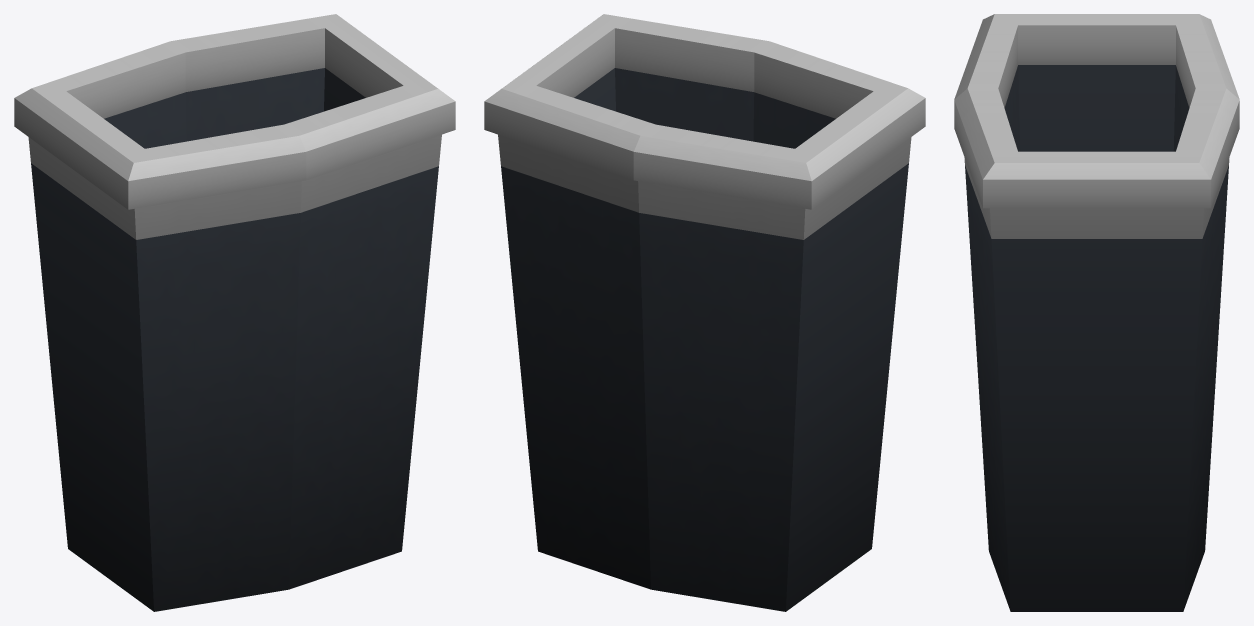
The model's file is waste_bin.glb.
3 renders of one model, left to right at view 1: azimuth 30°, elevation 25°; view 2: azimuth 150°, elevation 25°; view 3: azimuth 270°, elevation 25°, orthographic.
Visible parts, largest first — view 1: Cube.001_2; view 2: Cube.001_2; view 3: Cube.001_2.
Boxes of the visible parts, x1,y1,x2,y2 form: Cube.001_2: (14, 14, 455, 611); Cube.001_2: (484, 14, 925, 611); Cube.001_2: (954, 14, 1239, 611).
Bounding box in the file's own units: 2.13 × 2.87 × 1.6.
1 material, 1 textured.
